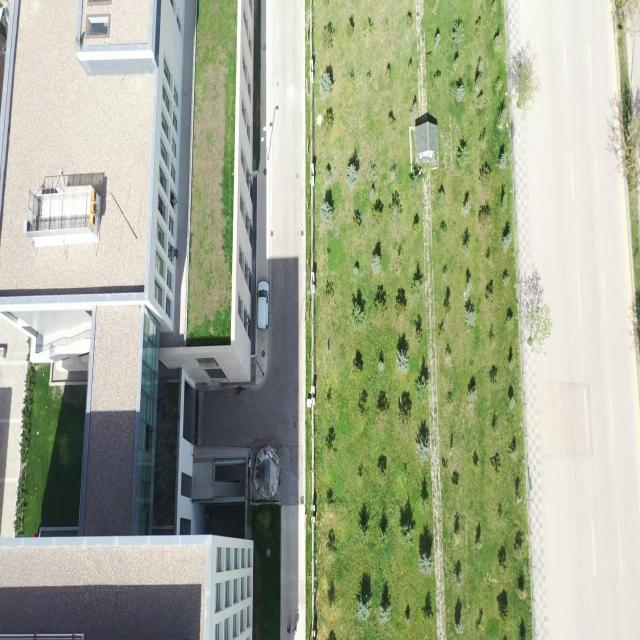p3rson: (171, 248, 178, 259), (287, 625, 291, 634), (293, 625, 297, 634)
